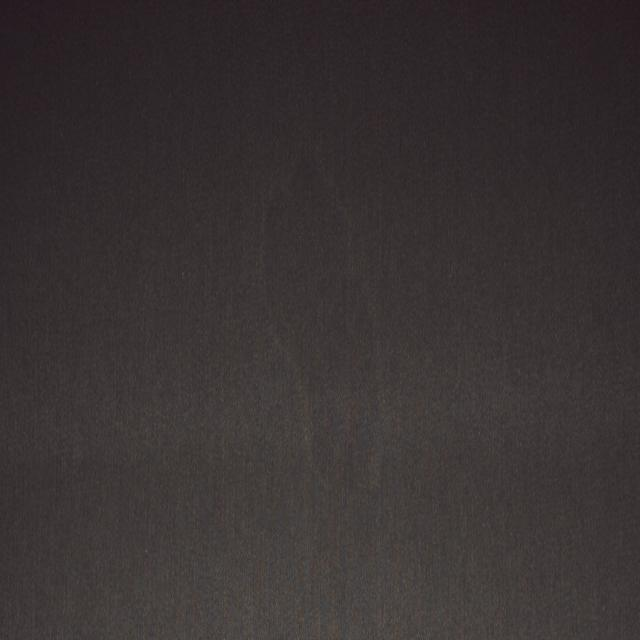Stain: (245, 150, 388, 495)
